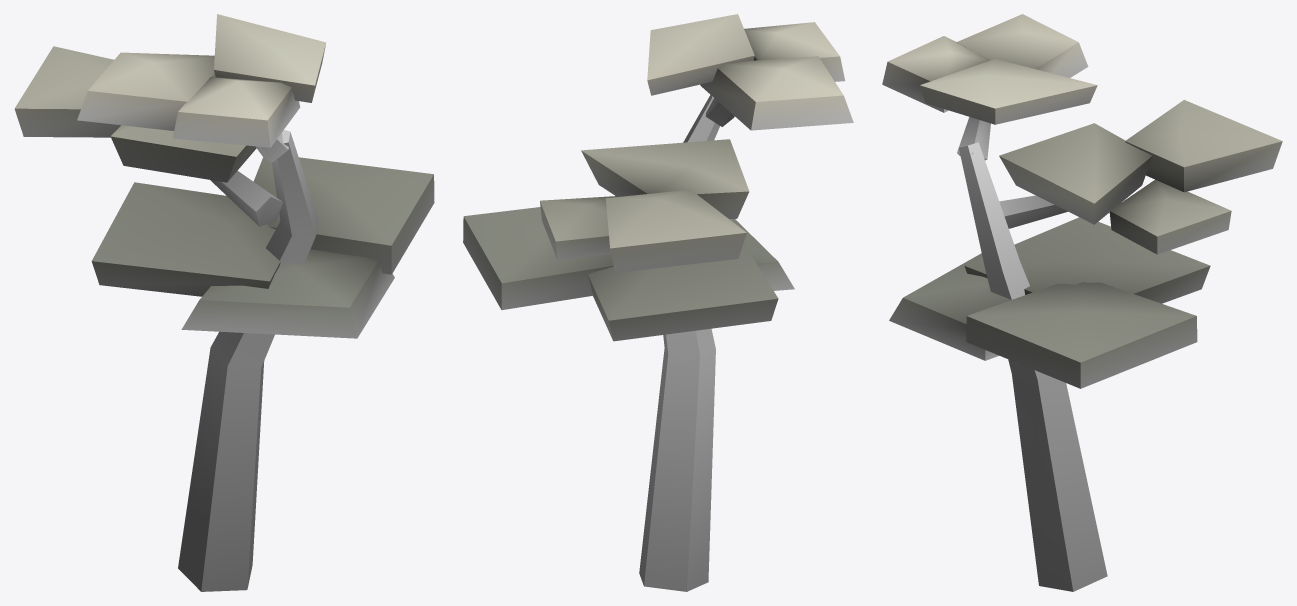
The model's file is beech_a.glb.
The picture shows the model from 3 angles, left to right: view 1: azimuth 30°, elevation 25°; view 2: azimuth 150°, elevation 25°; view 3: azimuth 270°, elevation 25°; orthographic projection. The views are drawn at different scales.
Visible parts, largest first — view 1: Crown, Trunk; view 2: Crown, Trunk; view 3: Crown, Trunk.
Boxes of the visible parts, x1,y1,x2,y2 form: Crown: [14, 14, 434, 338]; Trunk: [178, 130, 318, 591]; Crown: [463, 14, 853, 341]; Trunk: [639, 95, 719, 591]; Crown: [882, 14, 1282, 388]; Trunk: [959, 142, 1107, 591].
Bounding box in the file's own units: 5.1 × 7.03 × 5.
